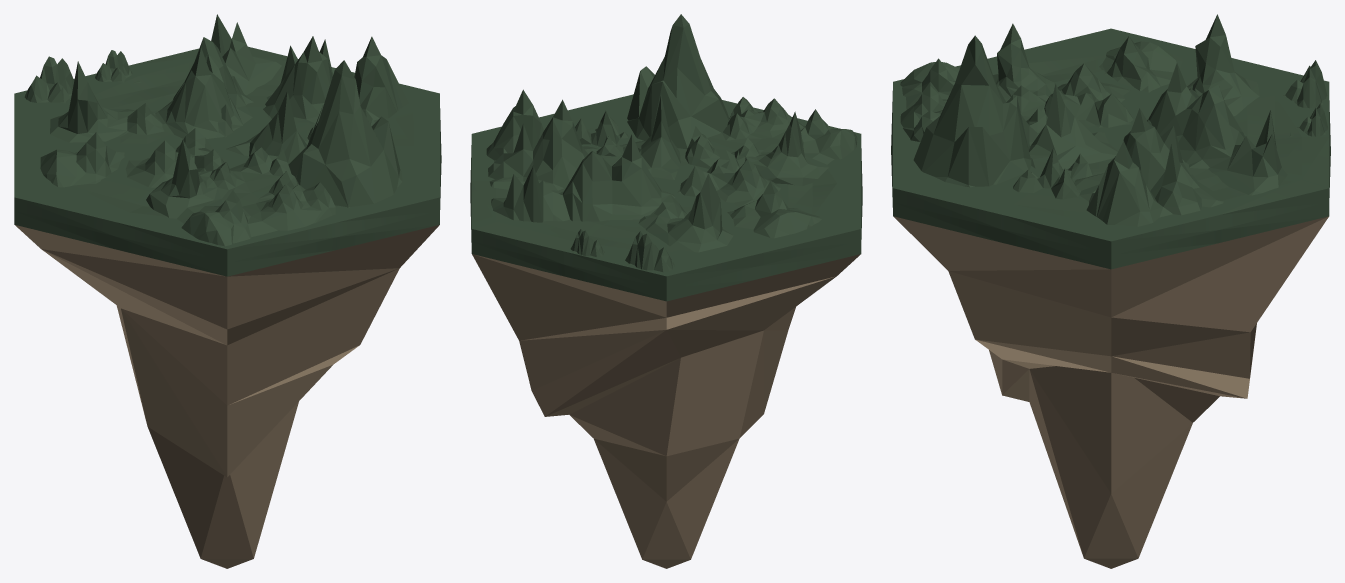
The model's file is Island2.fbx.
3 renders of one model, left to right at view 1: azimuth 30°, elevation 25°; view 2: azimuth 150°, elevation 25°; view 3: azimuth 270°, elevation 25°, orthographic. The views are drawn at different scales.
Visible parts, largest first — view 1: landmass2, nd1, pPlane17, pPlane18, rockty7, pPlane20, pPlane16; view 2: landmass2, nd1, pPlane18, pPlane17, rockty7, pPlane20, pPlane19, pPlane16; view 3: landmass2, nd1, rockty7, pPlane18, pPlane17, pPlane19, pPlane20, pPlane16.
Boxes of the visible parts, x1=… form: landmass2: x1=14, y1=46, x2=441, y2=568; nd1: x1=155, y1=14, x2=408, y2=164; pPlane17: x1=146, y1=139, x2=335, y2=246; pPlane18: x1=40, y1=61, x2=233, y2=187; rockty7: x1=288, y1=60, x2=402, y2=207; pPlane20: x1=24, y1=56, x2=74, y2=103; pPlane16: x1=95, y1=50, x2=141, y2=83; landmass2: x1=470, y1=94, x2=862, y2=568; nd1: x1=486, y1=89, x2=680, y2=222; pPlane18: x1=638, y1=150, x2=821, y2=252; pPlane17: x1=685, y1=97, x2=857, y2=186; rockty7: x1=627, y1=14, x2=729, y2=149; pPlane20: x1=625, y1=231, x2=674, y2=272; pPlane19: x1=575, y1=111, x2=628, y2=156; pPlane16: x1=570, y1=229, x2=604, y2=257; landmass2: x1=891, y1=28, x2=1330, y2=568; nd1: x1=1028, y1=63, x2=1287, y2=226; rockty7: x1=913, y1=35, x2=1031, y2=187; pPlane18: x1=1044, y1=14, x2=1259, y2=127; pPlane17: x1=900, y1=23, x2=1054, y2=142; pPlane19: x1=1013, y1=148, x2=1093, y2=199; pPlane20: x1=1282, y1=60, x2=1327, y2=108; pPlane16: x1=1289, y1=103, x2=1327, y2=136.
Size of the model in its own units: 11.99 by 14.68 by 10.47.
